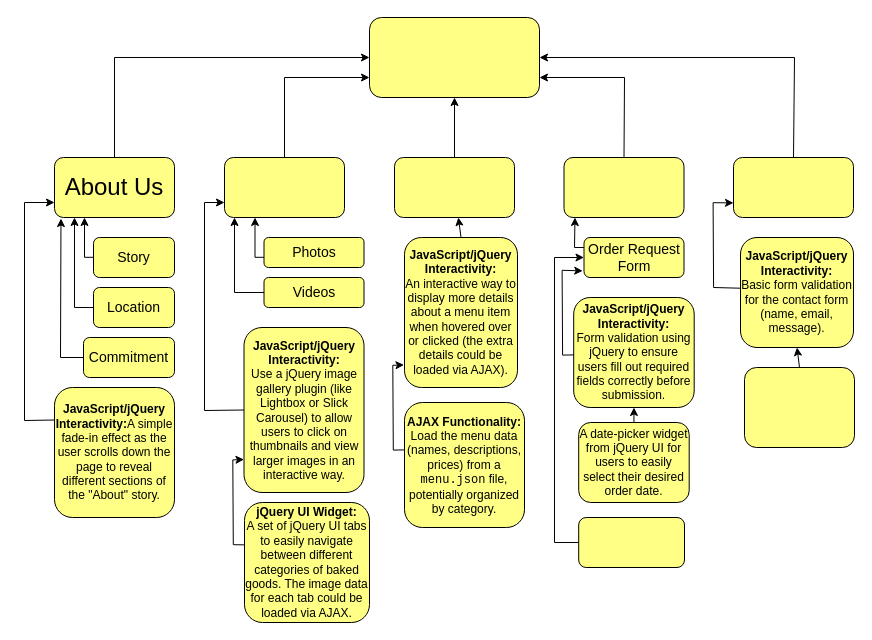
The diagram is 872 pixels wide and 640 high, and some of its shapes have lost their labels. The centre of each missing label's shape, as x and y in pixels:
Ajax Functionality: "Thank you for your inquiry!": pixel 631 542
AJAX Functionality: Immediate Feedback: pixel 799 407
Contact: pixel 793 187
Gallery: pixel 284 187
Home: pixel 454 57
Menu: pixel 454 187
Order: pixel 623 187
